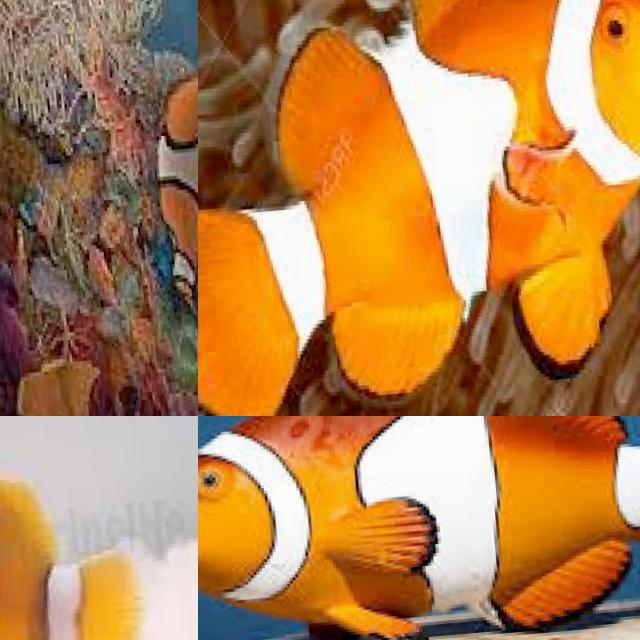Amphiprion-percula: (198, 0, 640, 416), (198, 416, 640, 640), (0, 416, 198, 640), (106, 11, 198, 299)
